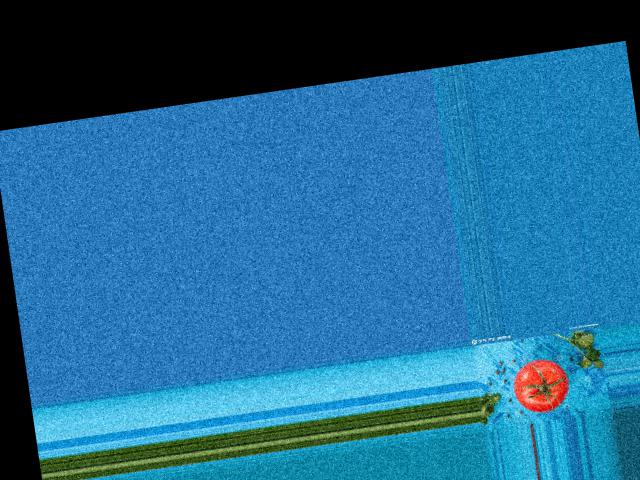tomato: (511, 355, 572, 415)
